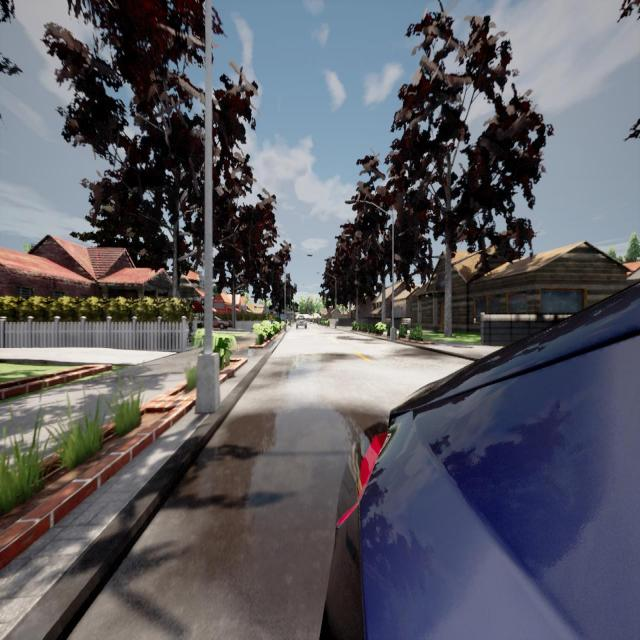Vehicle: (320, 287, 638, 640), (210, 316, 231, 330), (296, 314, 309, 330)
